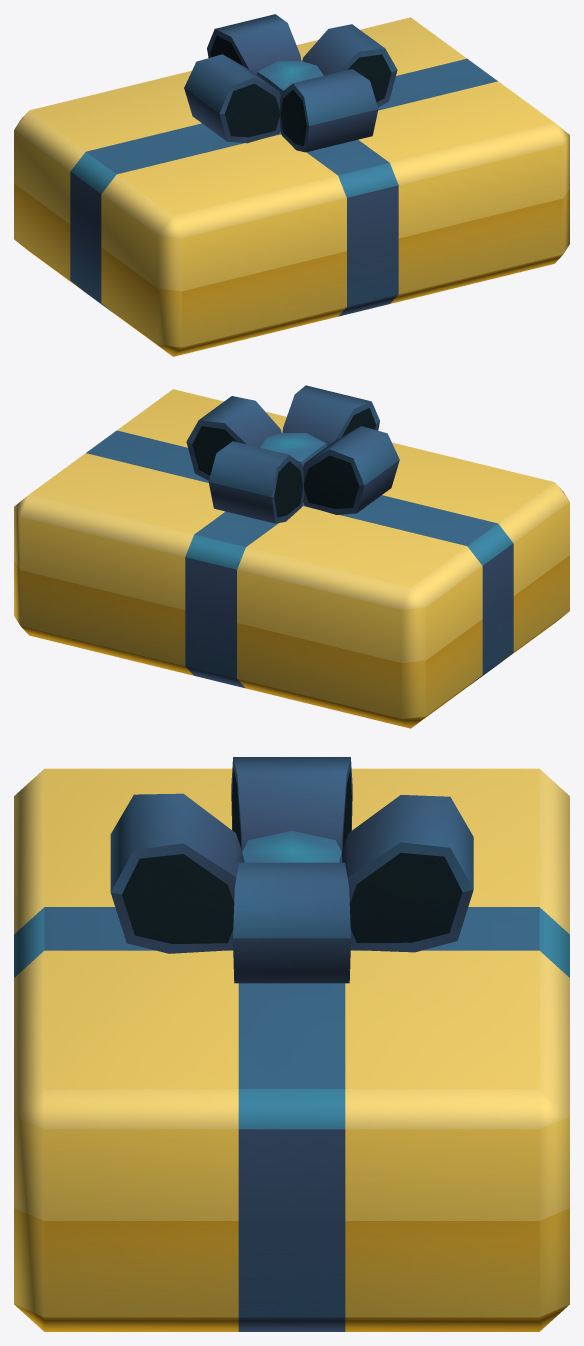
File: presi_square_2_yellow.fbx
3 renders of one model, top to bottom at view 1: azimuth 30°, elevation 25°; view 2: azimuth 150°, elevation 25°; view 3: azimuth 270°, elevation 25°, orthographic. The views are drawn at different scales.
Parts seen in each view (by area): view 1: presi_square_2_yellow; view 2: presi_square_2_yellow; view 3: presi_square_2_yellow.
Part boxes in pixels (<box>): presi_square_2_yellow: <box>14,14,569,356</box>; presi_square_2_yellow: <box>14,385,569,728</box>; presi_square_2_yellow: <box>14,757,569,1331</box>.
Bounding box in the file's own units: 156 × 74 × 106.
1 material, 1 textured.
